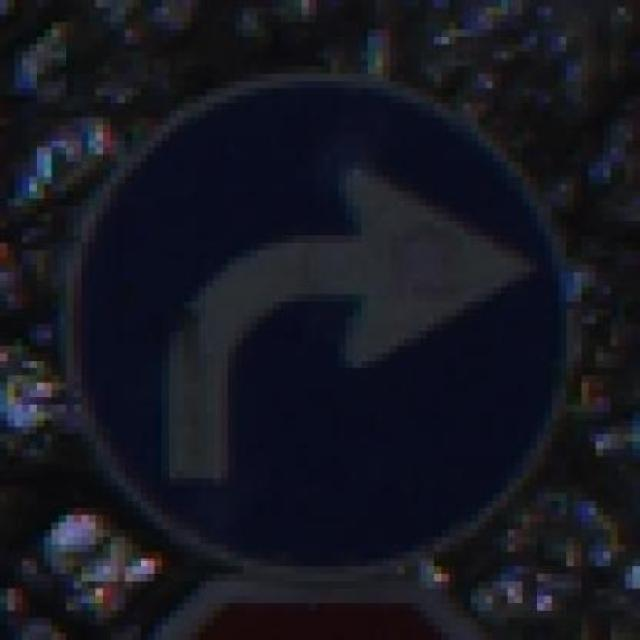Turn right ahead: (36, 74, 596, 581)
